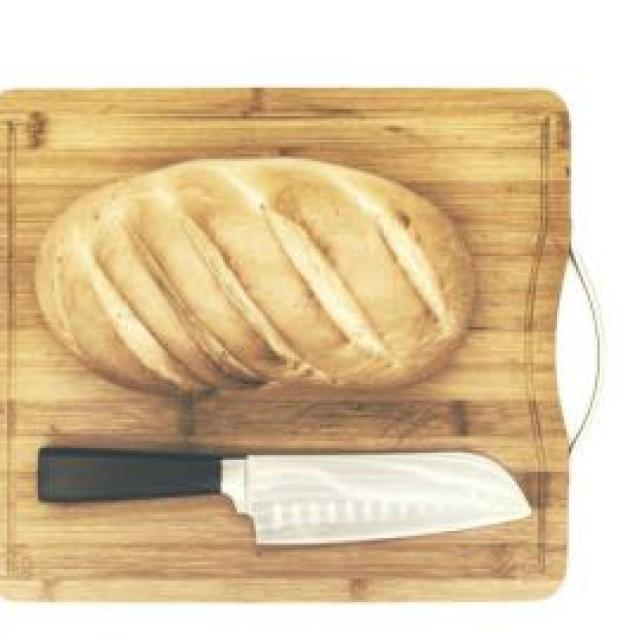knife: (38, 443, 536, 548)
